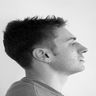ear: (30, 43, 56, 66)
